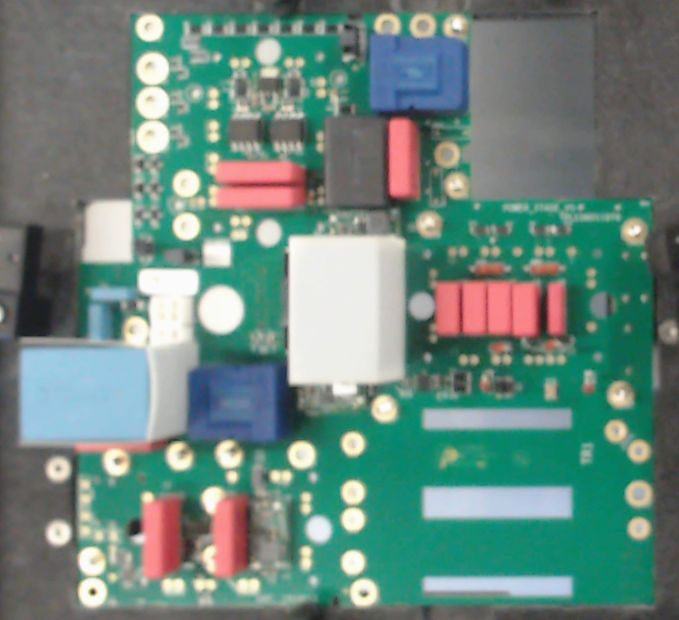comp1: (367, 33, 469, 116), (186, 363, 287, 442)
comp2: (141, 496, 183, 580), (214, 497, 252, 579), (388, 117, 424, 202), (216, 184, 307, 210), (216, 160, 306, 186), (510, 277, 538, 341), (434, 279, 460, 340), (461, 278, 487, 339), (487, 278, 511, 340), (546, 281, 567, 339)
comp3: (322, 114, 389, 209)
comp4: (17, 335, 196, 446), (288, 234, 406, 385)
